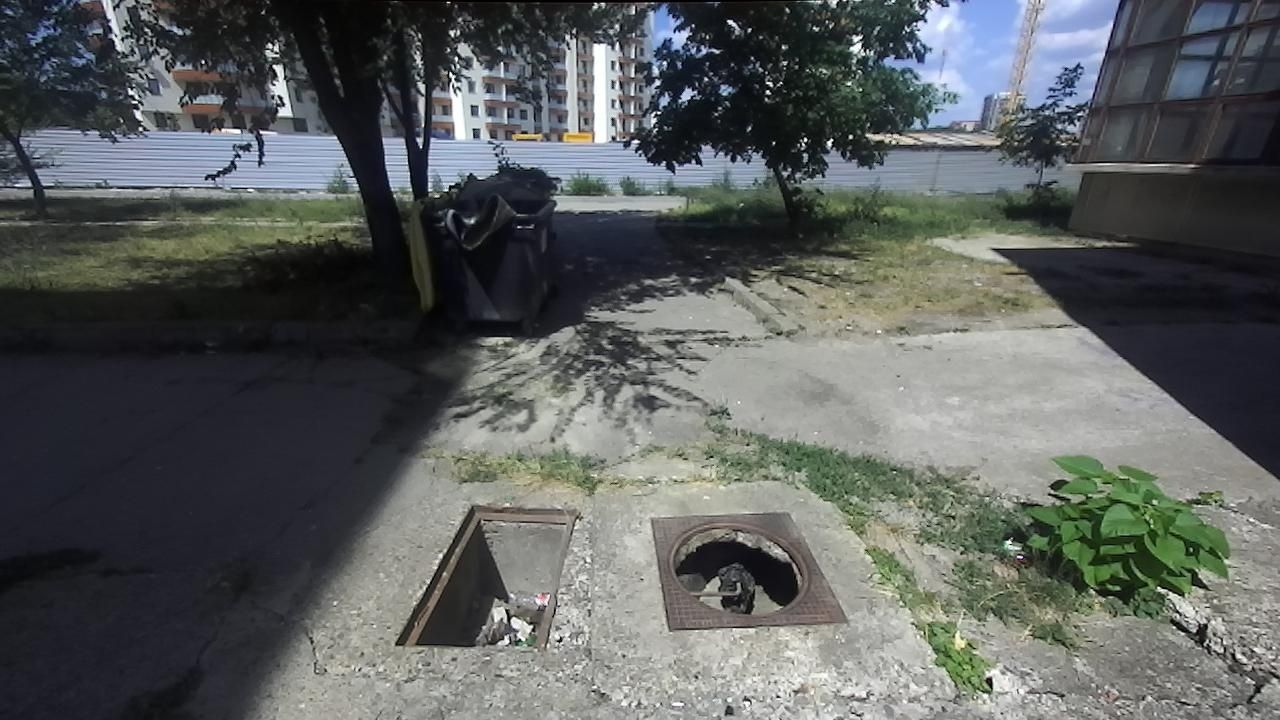drain: (389, 499, 582, 656), (666, 517, 818, 620)
